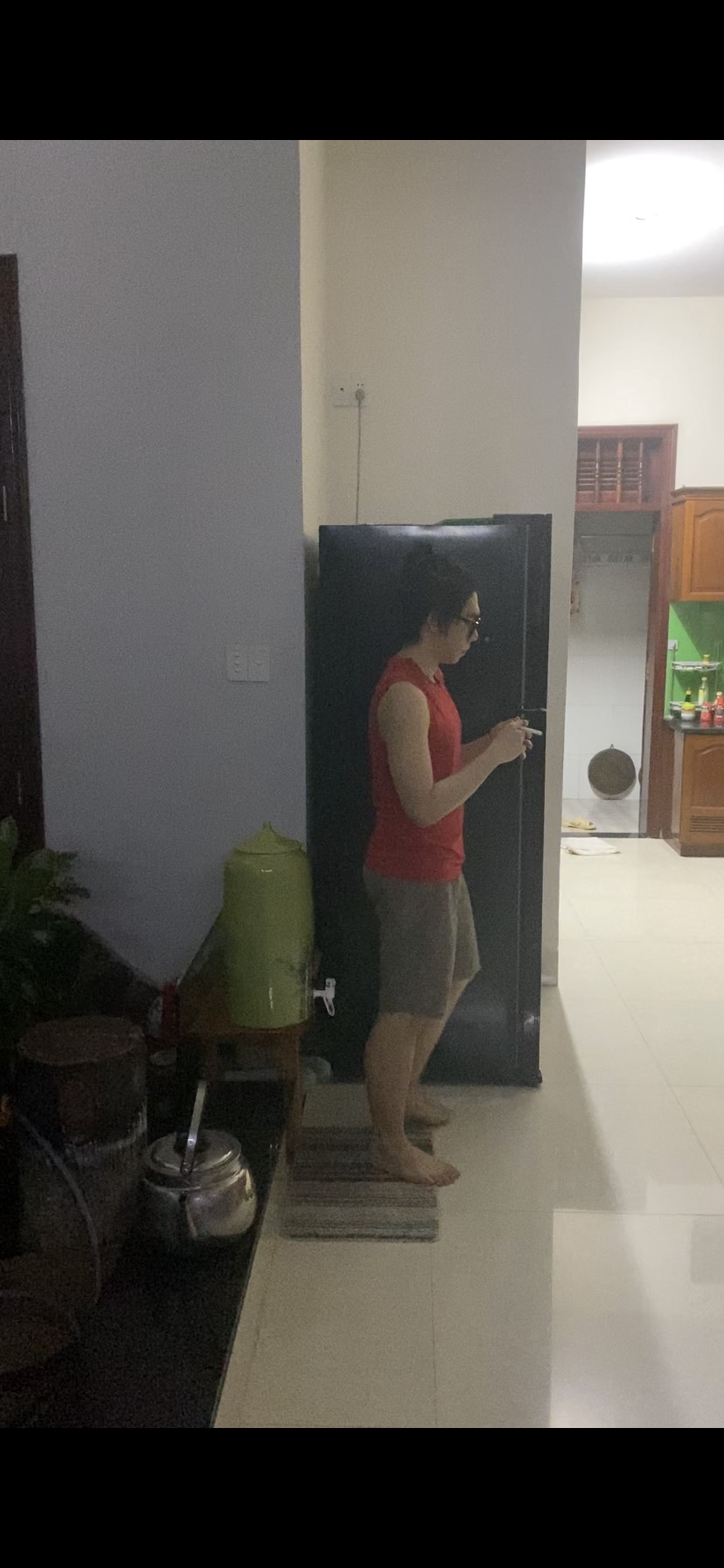cigarette: (525, 723, 545, 740)
person: (357, 562, 544, 1208)
